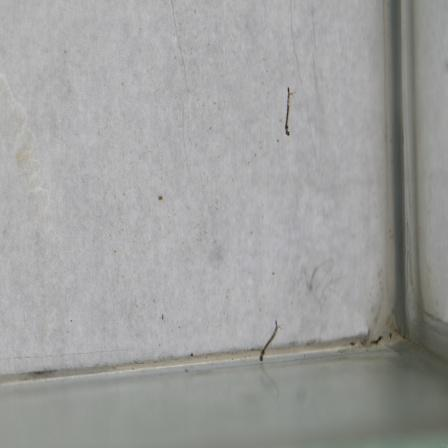Jentik-Nyamuk: (253, 320, 287, 365), (279, 79, 301, 138)
